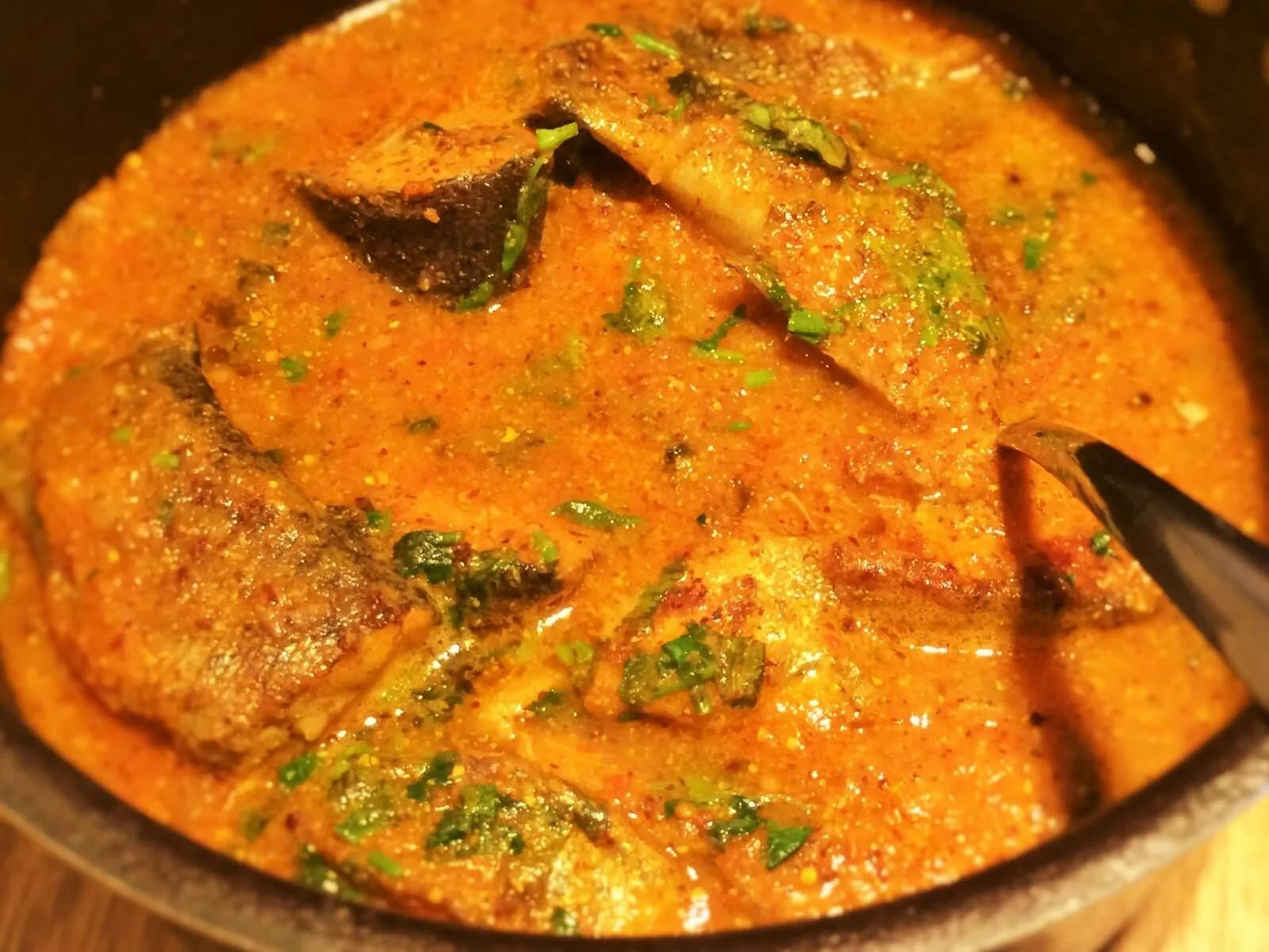FishCurry: (0, 0, 1269, 934)
